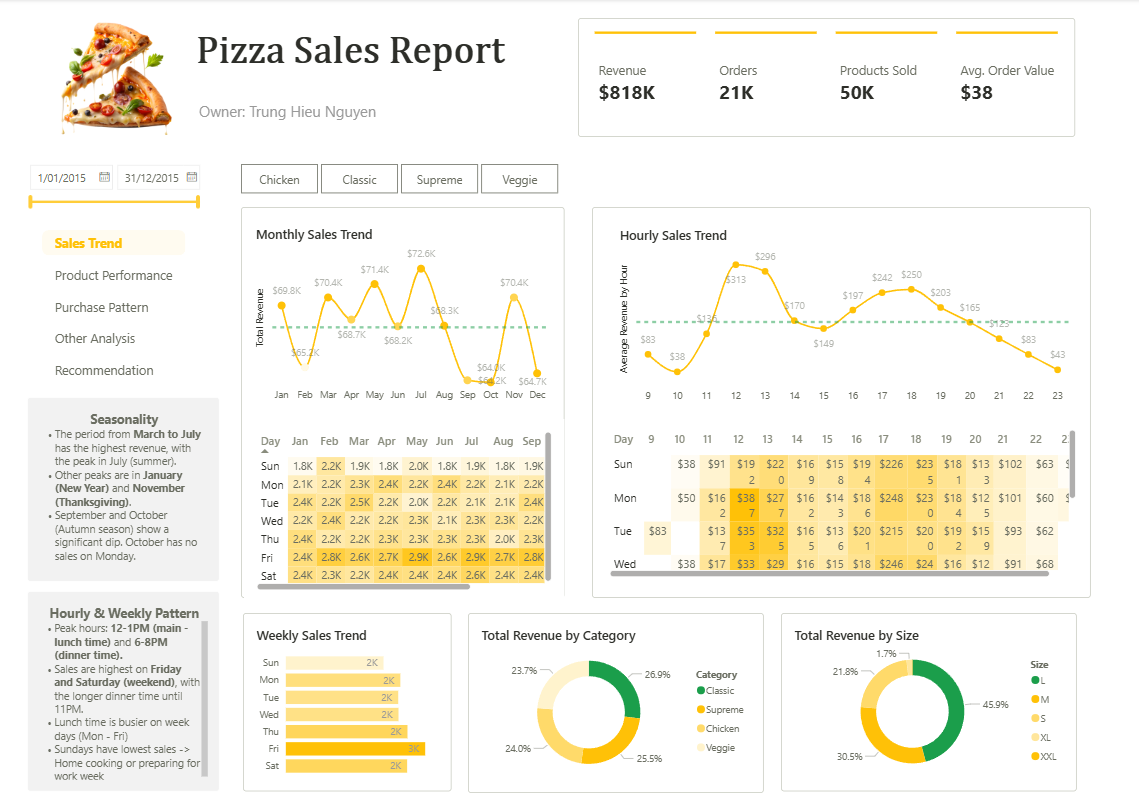

This screenshot's page, from the dashboard's own definition file:
{"tool":"powerbi","page":{"name":"Sales Trend","canvas":[1440,1024],"ordinal":0},"visuals":[{"type":"barChart","title":"Weekly Sales Trend","fields":{"Category":["Calendar.Weekday Short"],"Y":["Order.Average Revenue by Weekday"]},"box":[309.8,774.5,262.7,225.5],"z":0},{"type":"pageNavigator","box":[57.1,291.4,181.4,237.1],"z":1000},{"type":"shape","box":[750.3,262.3,628.6,492.9],"z":1500,"group":"g1"},{"type":"shape","box":[307.8,262.7,408.3,493.3],"z":1500,"group":"g2"},{"type":"image","box":[68.1,3.5,162.3,200.7],"z":2000,"group":"g3"},{"type":"lineChart","title":"Monthly Sales Trend","fields":{"Category":["Calendar.Month Short"],"Y":["Order.Total Revenue"]},"box":[310.7,269.7,398.7,258.7],"z":2000,"group":"g2"},{"type":"donutChart","fields":{"Y":["Order.Total Revenue"],"Category":["Pizza.Category"]},"box":[594.1,774.5,372.5,227.5],"z":2000},{"type":"cardVisual","fields":{"Data":["Order.Total Revenue","Order.Total Orders","Order.Total Products Sold","Order.Average Order Value"]},"box":[733.1,24.4,626.6,150.1],"z":3000},{"type":"group","id":"g1","title":"Group 1","box":[750.3,262.3,629.3,494.3],"z":4000},{"type":"shape","title":"Pizza Sales Report","box":[250.5,38.8,441.2,60.8],"z":5000,"group":"g3"},{"type":"group","id":"g2","title":"Group 2","box":[307.8,262.7,408.3,499.7],"z":5000},{"type":"lineChart","title":"Hourly Sales Trend","fields":{"Category":["Order.Hour"],"Y":["Order.Average Revenue by Hour"]},"box":[769.3,271,599,258.7],"z":6000,"group":"g1"},{"type":"donutChart","fields":{"Y":["Order.Total Revenue"],"Category":["Pizza.Size"]},"box":[988.2,774.5,372.5,225.5],"z":6000},{"type":"slicer","fields":{"Values":["Calendar.Date"]},"box":[34.3,204.3,230,82.9],"z":7000},{"type":"group","id":"g3","title":"Group 4","box":[68.1,3.5,623.5,200.7],"z":8000},{"type":"advancedSlicerVisual","fields":{"Values":["Pizza.Category"]},"box":[307.1,207.6,403.2,37.7],"z":9000},{"type":"textbox","title":"Seasonality","box":[37.9,501.7,243.1,232.8],"z":10000},{"type":"textbox","title":"Hourly & Weekly Pattern","box":[37.9,746.6,243.1,253.4],"z":11000},{"type":"textbox","box":[254.3,128.6,385.7,37.1],"z":12001,"group":"g3"},{"type":"pivotTable","title":"Hourly Sales Trend by Weekday","fields":{"Rows":["Calendar.Weekday Short"],"Columns":["Calendar.Month Short"],"Values":["Order.Average Revenue by Weekday"]},"box":[311.8,530.4,403.5,232],"z":15000,"group":"g2"},{"type":"pivotTable","title":"Hourly Sales Trend by Weekday","fields":{"Columns":["Order.Hour"],"Rows":["Calendar.Weekday Short"],"Values":["Order.Average Revenue by Hour"]},"box":[757.2,527.1,620,218.3],"z":17000,"group":"g1"}]}

Visuals, with their boxes in screenshot pixels (x1, y1, x2, y2), scaled from the page's 1440x1024 canvas onto the 1139x805 screenshot:
"Weekly Sales Trend" barChart: rect(245, 609, 453, 786)
pageNavigator: rect(45, 229, 189, 415)
shape: rect(593, 206, 1091, 594)
shape: rect(243, 207, 566, 594)
image: rect(54, 3, 182, 161)
"Monthly Sales Trend" lineChart: rect(246, 212, 561, 415)
donutChart - Order.Total Revenue x Pizza.Category: rect(470, 609, 765, 788)
cardVisual - Order.Total Revenue x Order.Total Orders: rect(580, 19, 1075, 137)
"Group 1" group: rect(593, 206, 1091, 595)
"Pizza Sales Report" shape: rect(198, 31, 547, 78)
"Group 2" group: rect(243, 207, 566, 599)
"Hourly Sales Trend" lineChart: rect(608, 213, 1082, 416)
donutChart - Order.Total Revenue x Pizza.Size: rect(782, 609, 1076, 786)
slicer - Calendar.Date: rect(27, 161, 209, 226)
"Group 4" group: rect(54, 3, 547, 161)
advancedSlicerVisual - Pizza.Category: rect(243, 163, 562, 193)
"Seasonality" textbox: rect(30, 394, 222, 577)
"Hourly & Weekly Pattern" textbox: rect(30, 587, 222, 786)
textbox: rect(201, 101, 506, 130)
"Hourly Sales Trend by Weekday" pivotTable: rect(247, 417, 566, 599)
"Hourly Sales Trend by Weekday" pivotTable: rect(599, 414, 1089, 586)
